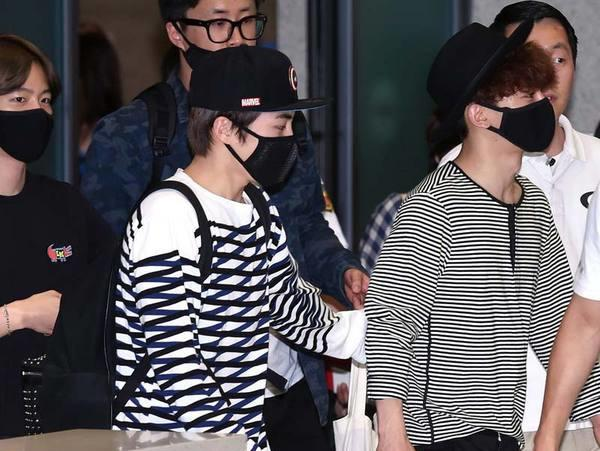OK: (222, 114, 299, 190), (478, 83, 555, 158), (1, 86, 60, 161)
WRONG: (189, 6, 261, 78)
